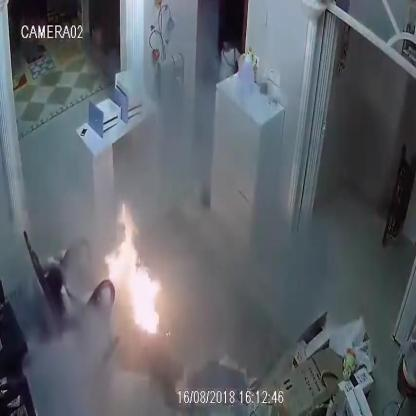fire: (105, 203, 161, 333)
